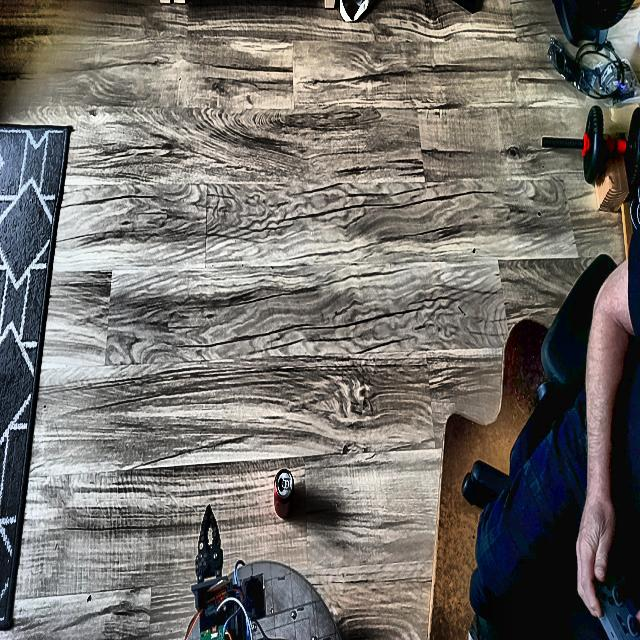Can: (274, 470, 293, 518)
